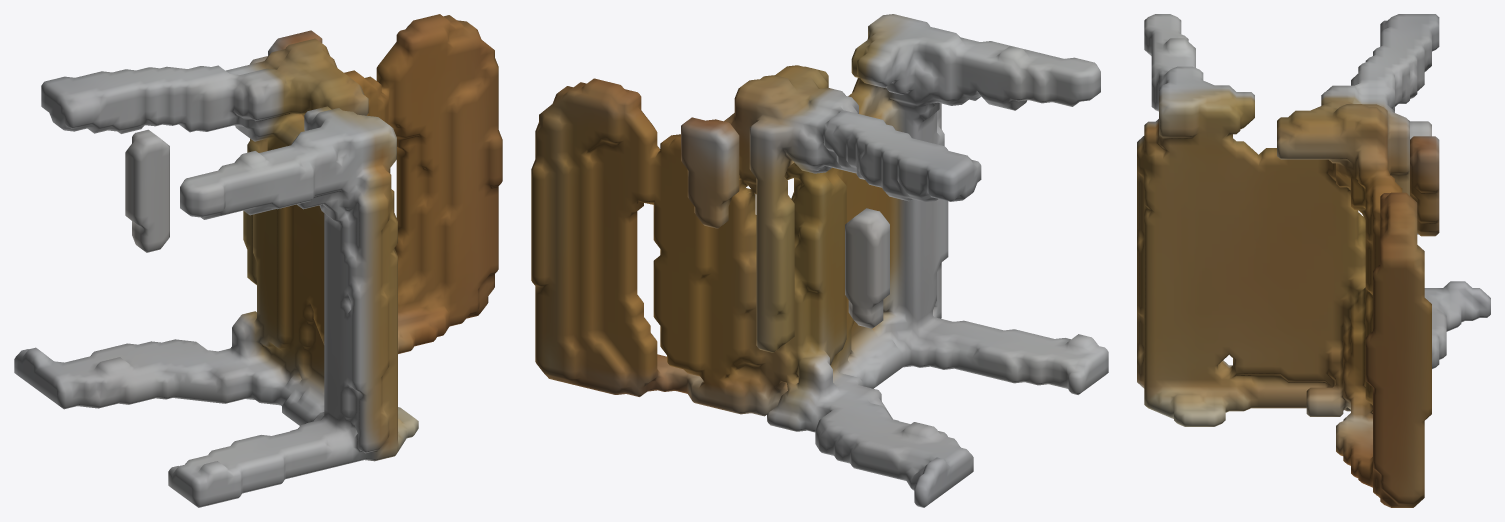
The model's file is double seated chair made of wood on the top and St.glb.
The picture shows the model from 3 angles, left to right: view 1: azimuth 30°, elevation 25°; view 2: azimuth 150°, elevation 25°; view 3: azimuth 270°, elevation 25°; orthographic projection. The views are drawn at different scales.
Parts seen in each view (by area): view 1: double seated chair made of wood on the top and St; view 2: double seated chair made of wood on the top and St; view 3: double seated chair made of wood on the top and St.
Boxes of the visible parts, left/top/right/bottom form: double seated chair made of wood on the top and St: left=14, top=14, right=502, bottom=507; double seated chair made of wood on the top and St: left=531, top=14, right=1108, bottom=507; double seated chair made of wood on the top and St: left=1137, top=14, right=1490, bottom=507.
Bounding box in the file's own units: 64 × 46 × 48.
